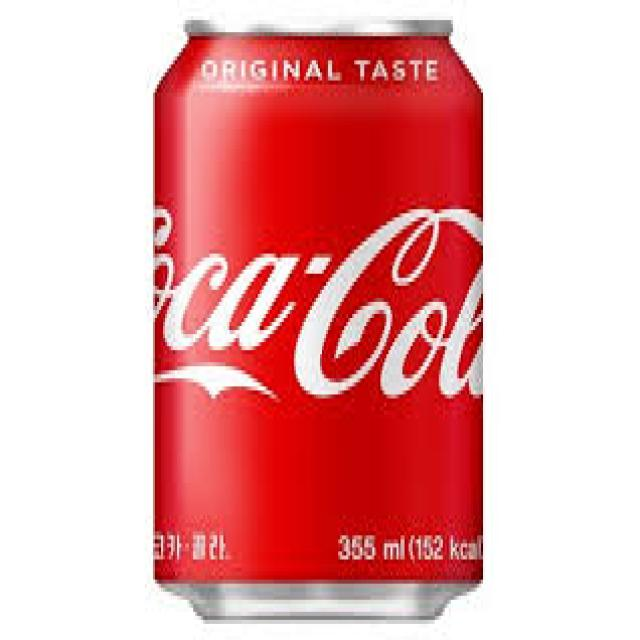Coca-Cola: (139, 5, 500, 623)
